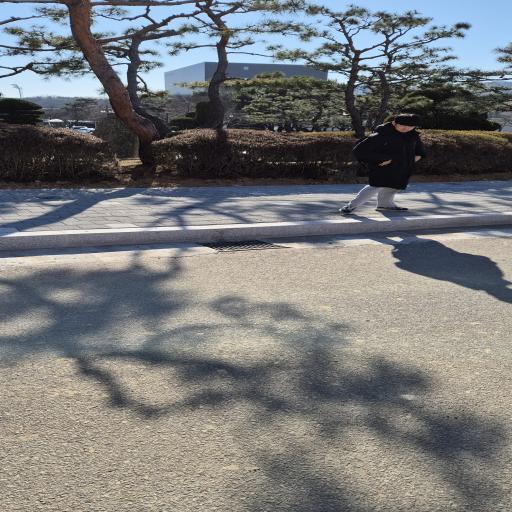drain: (197, 240, 292, 252)
